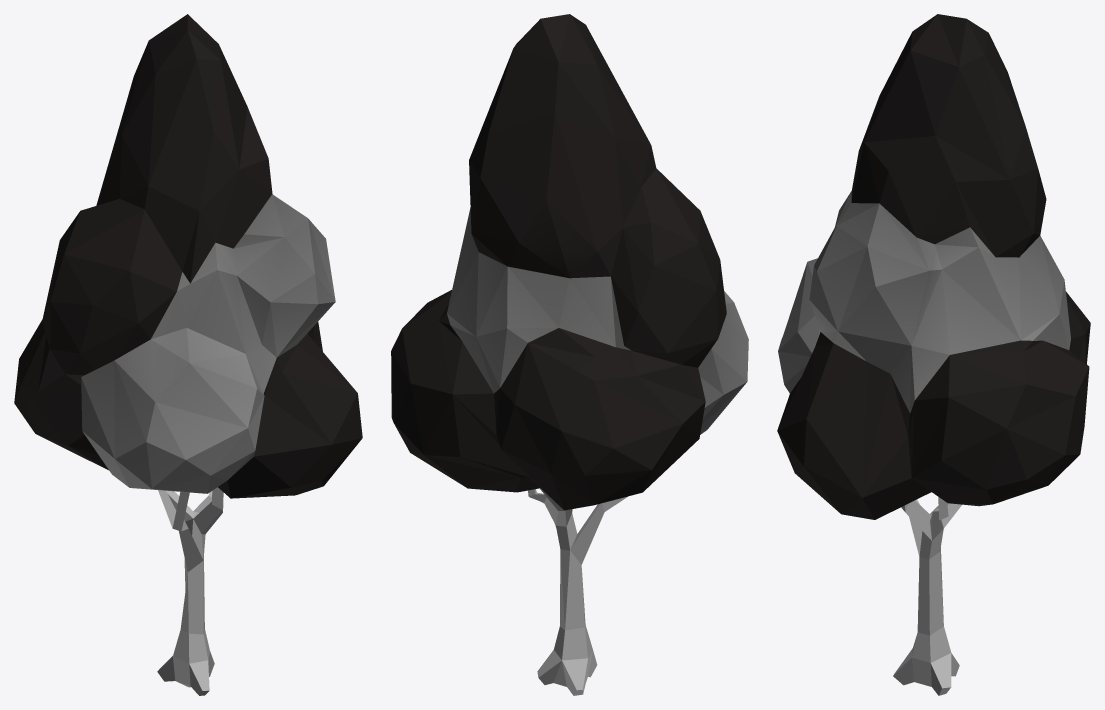
Rendered from SM_Gen_Env_Tree_03.glb.
3 renders of one model, left to right at view 1: azimuth 30°, elevation 25°; view 2: azimuth 150°, elevation 25°; view 3: azimuth 270°, elevation 25°, orthographic. The views are drawn at different scales.
Visible parts, largest first — view 1: SM_Gen_Env_Tree_03; view 2: SM_Gen_Env_Tree_03; view 3: SM_Gen_Env_Tree_03.
Boxes of the visible parts, left/top/right/bottom form: SM_Gen_Env_Tree_03: left=14, top=14, right=362, bottom=695; SM_Gen_Env_Tree_03: left=391, top=14, right=748, bottom=695; SM_Gen_Env_Tree_03: left=777, top=14, right=1090, bottom=695.
Size of the model in its own units: 2.74 by 6.15 by 2.59.
1 material, 1 textured.
